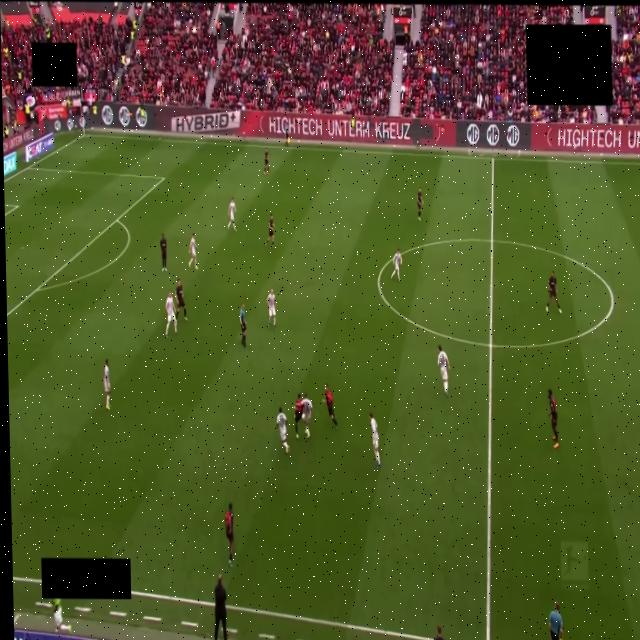player: (369, 412, 381, 469), (225, 502, 235, 568), (546, 271, 561, 314), (324, 384, 338, 427), (548, 389, 558, 448), (437, 346, 449, 395), (276, 408, 289, 453), (165, 292, 176, 337), (176, 279, 187, 320), (302, 394, 312, 438), (103, 359, 111, 411), (294, 394, 303, 438), (391, 249, 402, 282), (267, 290, 276, 329), (189, 233, 197, 269), (228, 198, 236, 232), (160, 233, 167, 271), (266, 214, 274, 247), (417, 187, 423, 220), (264, 148, 269, 176)
referee: (240, 304, 246, 346)
